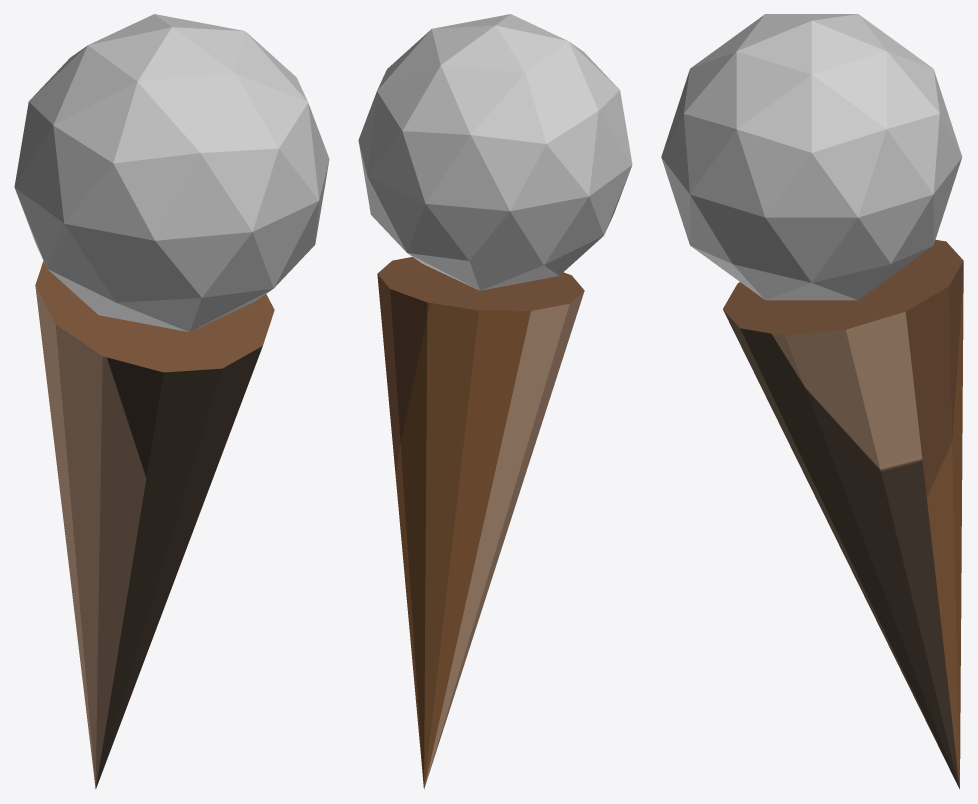
The model's file is Torch.fbx.
3 renders of one model, left to right at view 1: azimuth 30°, elevation 25°; view 2: azimuth 150°, elevation 25°; view 3: azimuth 270°, elevation 25°, orthographic. The views are drawn at different scales.
Parts seen in each view (by area): view 1: Cone; view 2: Cone; view 3: Cone.
Boxes of the visible parts, x1,y1,x2,y2 form: Cone: [14, 14, 329, 789]; Cone: [358, 14, 632, 789]; Cone: [661, 14, 963, 789].
Bounding box in the file's own units: 99.54 × 295 × 105.
